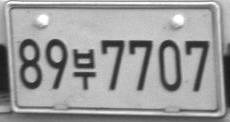0: (157, 39, 182, 92)
7: (184, 39, 210, 93), (128, 39, 154, 91), (99, 39, 125, 90)
8: (17, 37, 43, 89)
9: (45, 37, 68, 90)
부: (71, 48, 96, 90)
